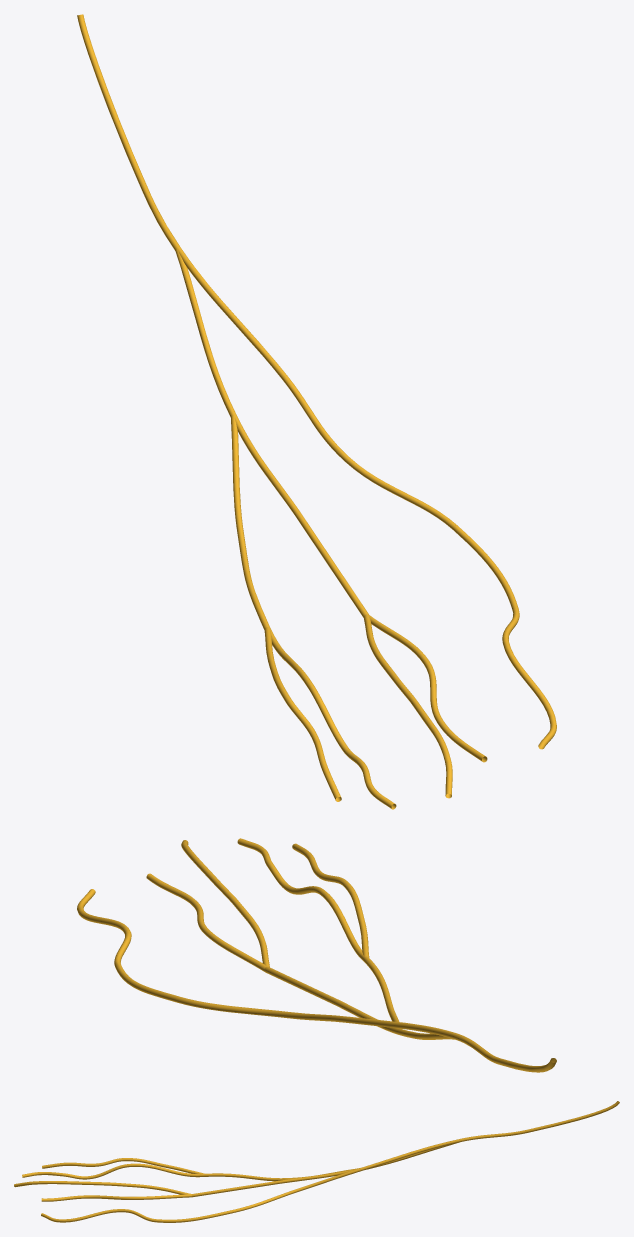
The model's file is nervoso-medial-plantar-nerve-r.glb.
3 views of the same model, one above another, from view 1: azimuth 30°, elevation 25°; view 2: azimuth 210°, elevation 25°; view 3: azimuth 270°, elevation 25° (orthographic). The views are drawn at different scales.
Parts seen in each view (by area): view 1: Proper plantar digital branches of medial plantar nerve.r, Common plantar digital branches of medial plantar nerve, Medial plantar nerve.r; view 2: Proper plantar digital branches of medial plantar nerve.r, Common plantar digital branches of medial plantar nerve, Medial plantar nerve.r; view 3: Proper plantar digital branches of medial plantar nerve.r, Common plantar digital branches of medial plantar nerve, Medial plantar nerve.r.
Part boxes in pixels (x1,y1,x2,y2): Proper plantar digital branches of medial plantar nerve.r: (264, 525, 556, 809); Common plantar digital branches of medial plantar nerve: (231, 375, 456, 629); Medial plantar nerve.r: (77, 14, 287, 417); Proper plantar digital branches of medial plantar nerve.r: (77, 838, 369, 1002); Common plantar digital branches of medial plantar nerve: (176, 956, 399, 1034); Medial plantar nerve.r: (346, 1016, 556, 1072); Proper plantar digital branches of medial plantar nerve.r: (14, 1158, 231, 1222); Common plantar digital branches of medial plantar nerve: (191, 1168, 360, 1213); Medial plantar nerve.r: (359, 1101, 619, 1170).
Size of the model in its own units: 0.0571 by 0.0491 by 0.1856.
